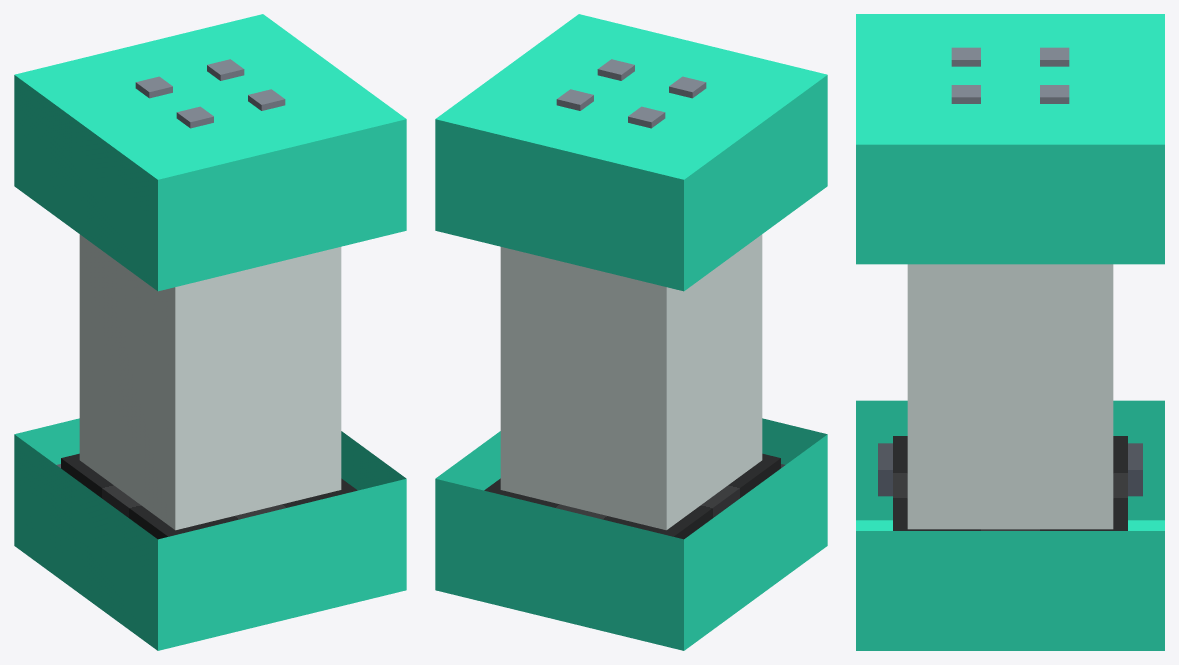
File: Scrap 2.fbx
3 views of the same model, side by side, from view 1: azimuth 30°, elevation 25°; view 2: azimuth 150°, elevation 25°; view 3: azimuth 270°, elevation 25° (orthographic). The views are drawn at different scales.
Visible parts, largest first — view 1: Top_outline, Edge_outline, Base_outline, Base, Plug3_1, Plug2_1, Plug4_1, Plug5; view 2: Top_outline, Edge_outline, Base_outline, Base, Plug2_1, Plug3_1, Plug4_1, Plug5; view 3: Top_outline, Edge_outline, Base_outline, Base, BaseRing, Plug4_1, Plug5, Plug2_1, Plug3_1.
Part boxes in pixels (<box>): Top_outline: <box>14,14,406,291</box>; Edge_outline: <box>79,234,341,530</box>; Base_outline: <box>14,418,406,650</box>; Base: <box>61,453,357,539</box>; Plug3_1: <box>207,59,244,80</box>; Plug2_1: <box>248,89,285,110</box>; Plug4_1: <box>135,76,172,98</box>; Plug5: <box>176,106,213,128</box>; Top_outline: <box>435,14,827,291</box>; Edge_outline: <box>500,234,762,530</box>; Base_outline: <box>435,418,827,650</box>; Base: <box>484,453,780,539</box>; Plug2_1: <box>597,59,634,80</box>; Plug3_1: <box>556,89,593,110</box>; Plug4_1: <box>628,106,665,128</box>; Plug5: <box>669,76,706,98</box>; Top_outline: <box>856,14,1164,264</box>; Edge_outline: <box>907,264,1113,529</box>; Base_outline: <box>856,400,1164,650</box>; Base: <box>893,436,1127,530</box>; BaseRing: <box>878,443,1142,496</box>; Plug4_1: <box>1040,47,1069,66</box>; Plug5: <box>951,47,980,66</box>; Plug2_1: <box>951,85,980,103</box>; Plug3_1: <box>1040,85,1069,103</box>.
Size of the model in its own units: 65.62 by 122 by 65.62.
1 material, 1 textured.
